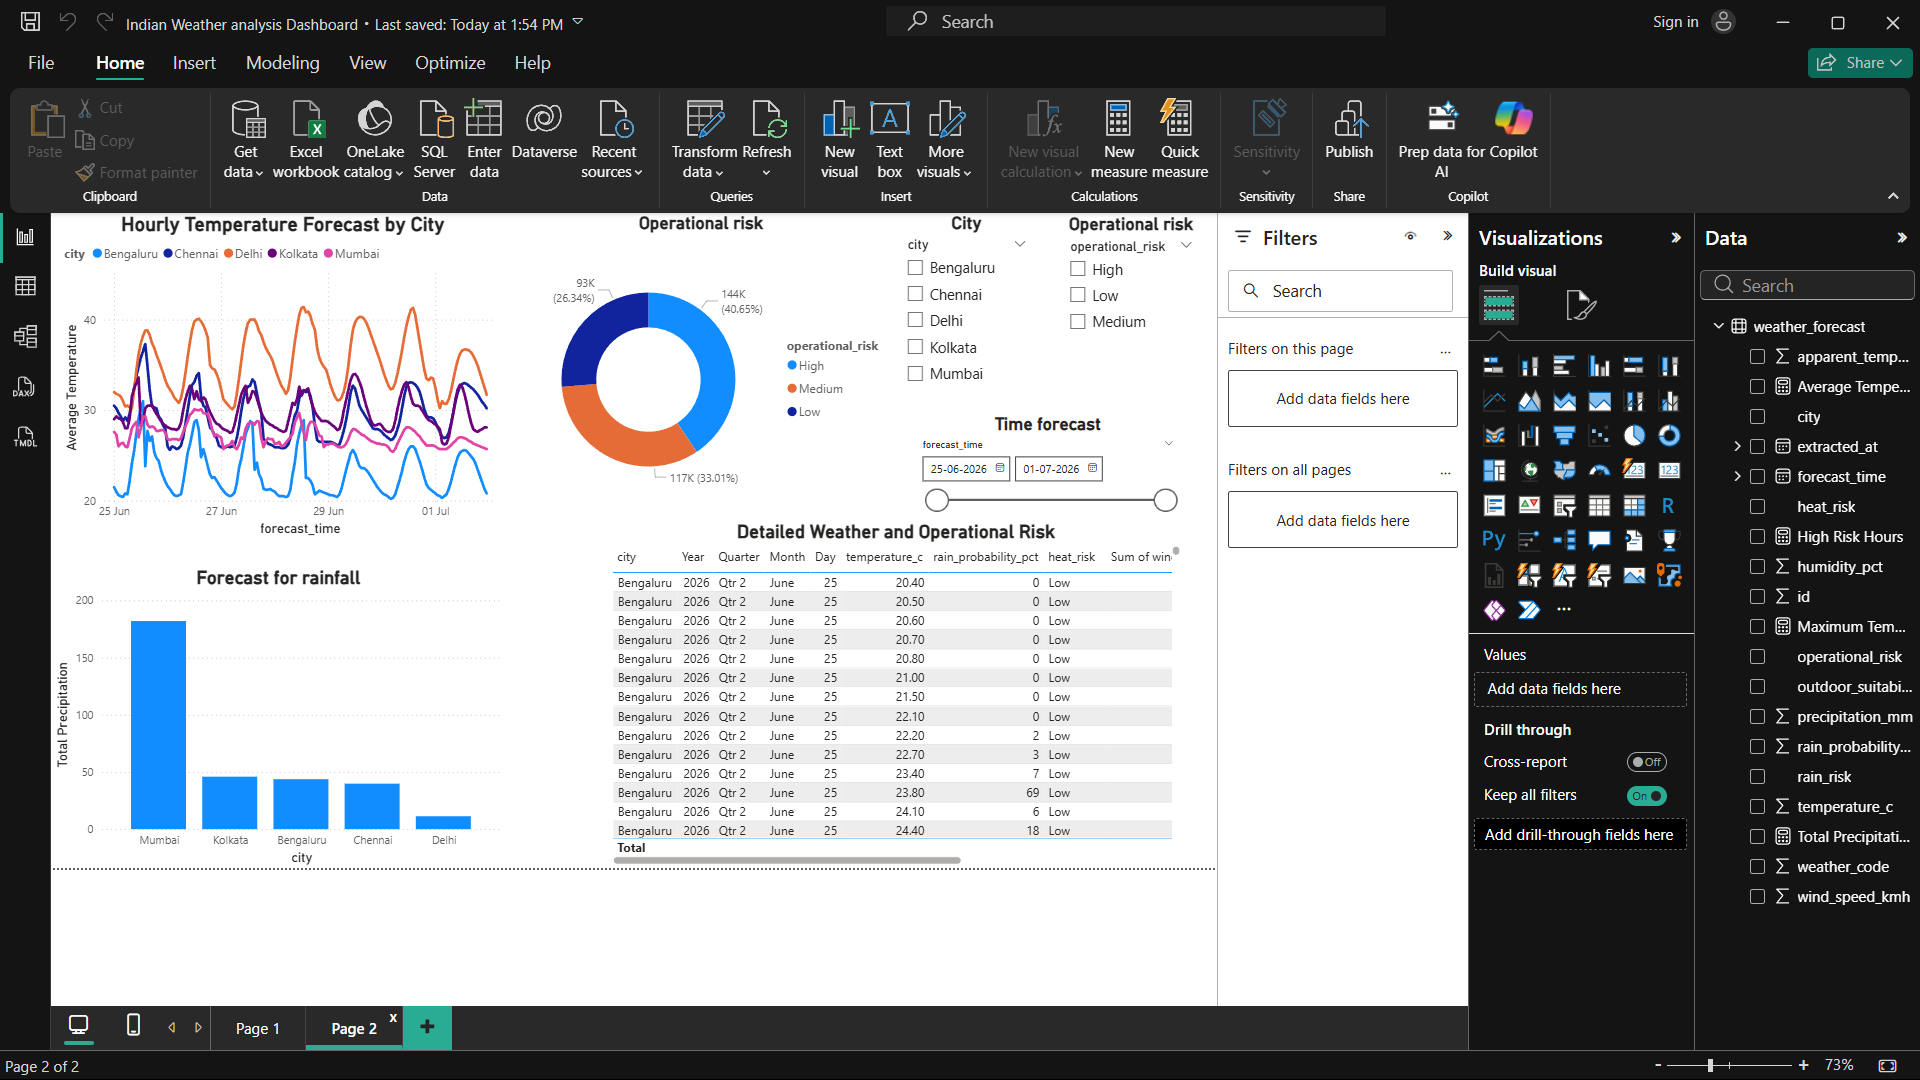

The page's visual inventory and layout, read from the dashboard file:
{"tool":"powerbi","page":{"name":"Page 2","canvas":[1280,720],"ordinal":1},"visuals":[{"type":"lineChart","title":"Hourly Temperature Forecast by City","fields":{"Y":["weather_forecast.Average Temperature"],"Series":["weather_forecast.city"],"Category":["weather_forecast.forecast_time"]},"box":[9.6,0,489.9,359.5],"z":0},{"type":"clusteredColumnChart","title":"Forecast for rainfall","fields":{"Category":["weather_forecast.city"],"Y":["weather_forecast.Total Precipitation"]},"box":[0,388.3,499.5,332.1],"z":1},{"type":"donutChart","title":"Operational risk","fields":{"Category":["weather_forecast.operational_risk"],"Y":["Sum(weather_forecast.id)"]},"box":[499.5,0,428.1,344.4],"z":2},{"type":"tableEx","title":"Detailed Weather and Operational Risk","fields":{"Values":["weather_forecast.city","weather_forecast.forecast_time.Variation.Date Hierarchy.Year","weather_forecast.forecast_time.Variation.Date Hierarchy.Quarter","weather_forecast.forecast_time.Variation.Date Hierarchy.Month","weather_forecast.forecast_time.Variation.Date Hierarchy.Day","weather_forecast.temperature_c","weather_forecast.rain_probability_pct","weather_forecast.heat_risk","Sum(weather_forecast.wind_speed_kmh)","weather_forecast.rain_risk","weather_forecast.operational_risk","weather_forecast.outdoor_suitability"]},"box":[610.6,337.6,634,382.8],"z":3},{"type":"slicer","title":"City","fields":{"Values":["weather_forecast.city"]},"box":[927.6,0,155.1,208.6],"z":4},{"type":"slicer","title":"Time forecast","fields":{"Values":["weather_forecast.forecast_time"]},"box":[944.1,220.9,300.5,116.6],"z":5},{"type":"slicer","title":"Operational risk","fields":{"Values":["weather_forecast.operational_risk"]},"box":[1106,1.4,159.2,171.5],"z":6}]}

Visuals, with their boxes on the page's 1280x720 design canvas (x1, y1, x2, y2). These are canvas units, not pixel positions in the 1920x1080 screenshot, which may show the page scaled, cropped or inside an application window:
"Hourly Temperature Forecast by City" lineChart: region(10, 0, 500, 360)
"Forecast for rainfall" clusteredColumnChart: region(0, 388, 500, 720)
"Operational risk" donutChart: region(500, 0, 928, 344)
"Detailed Weather and Operational Risk" tableEx: region(611, 338, 1245, 720)
"City" slicer: region(928, 0, 1083, 209)
"Time forecast" slicer: region(944, 221, 1245, 338)
"Operational risk" slicer: region(1106, 1, 1265, 173)
